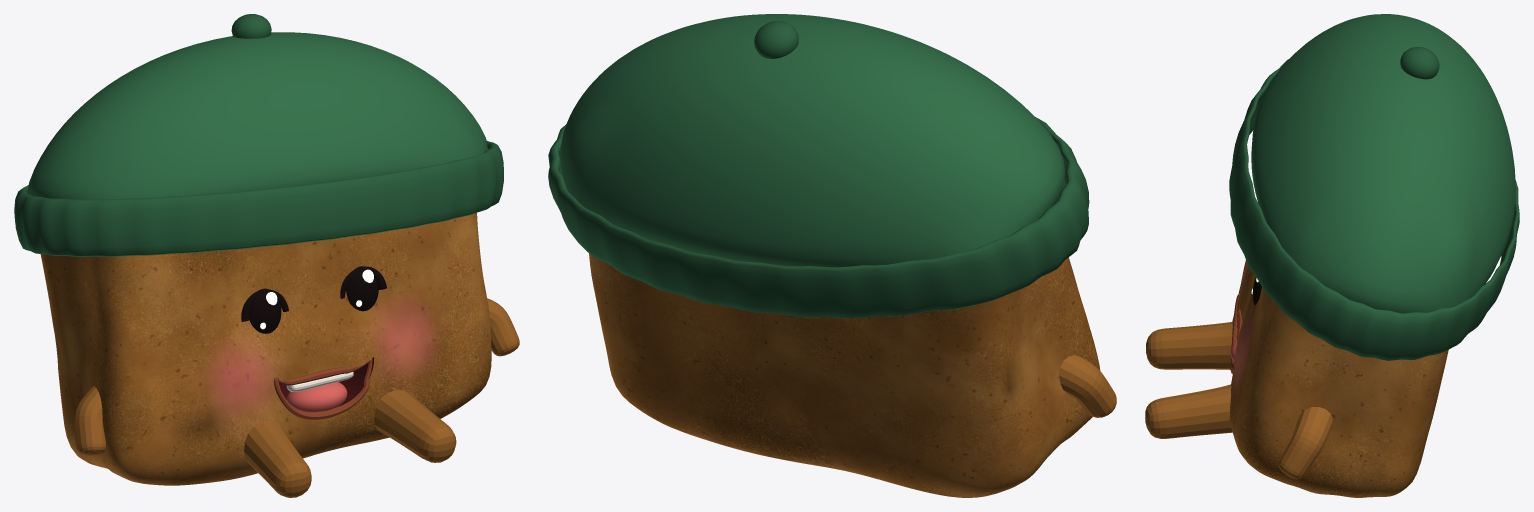
Rendered from potato-hashbrown.glb.
The picture shows the model from 3 angles, left to right: view 1: azimuth 30°, elevation 25°; view 2: azimuth 150°, elevation 25°; view 3: azimuth 270°, elevation 25°; orthographic projection. The views are drawn at different scales.
Parts seen in each view (by area): view 1: Body, Beanie_Dome, Beanie_Band, Leg_L, Leg_R, Arm_R, Lips, Tongue, Arm_L, Pupil_R, Pupil_L, Beanie_Knob; view 2: Beanie_Dome, Body, Beanie_Band, Arm_R, Beanie_Knob; view 3: Beanie_Dome, Body, Beanie_Band, Leg_R, Leg_L, Arm_L, Beanie_Knob.
Part boxes in pixels (x1=…): Body: x1=40, y1=213, x2=491, y2=485; Beanie_Dome: x1=27, y1=32, x2=487, y2=199; Beanie_Band: x1=14, y1=140, x2=503, y2=256; Leg_L: x1=374, y1=390, x2=456, y2=462; Leg_R: x1=244, y1=421, x2=311, y2=497; Arm_R: x1=73, y1=386, x2=105, y2=455; Lips: x1=273, y1=359, x2=372, y2=419; Tongue: x1=287, y1=382, x2=347, y2=412; Arm_L: x1=487, y1=298, x2=519, y2=356; Pupil_R: x1=249, y1=288, x2=281, y2=333; Pupil_L: x1=346, y1=266, x2=378, y2=311; Beanie_Knob: x1=231, y1=14, x2=271, y2=38; Beanie_Dome: x1=560, y1=14, x2=1065, y2=267; Body: x1=589, y1=253, x2=1100, y2=497; Beanie_Band: x1=548, y1=117, x2=1089, y2=318; Arm_R: x1=1059, y1=355, x2=1116, y2=417; Beanie_Knob: x1=754, y1=21, x2=798, y2=58; Beanie_Dome: x1=1251, y1=14, x2=1515, y2=313; Body: x1=1229, y1=260, x2=1448, y2=497; Beanie_Band: x1=1229, y1=59, x2=1519, y2=360; Leg_R: x1=1146, y1=322, x2=1232, y2=369; Leg_L: x1=1145, y1=384, x2=1232, y2=438; Arm_L: x1=1278, y1=407, x2=1332, y2=479; Beanie_Knob: x1=1400, y1=47, x2=1439, y2=79.
Size of the model in its own units: 1.86 by 1.53 by 1.31.
9 materials, 1 textured.
